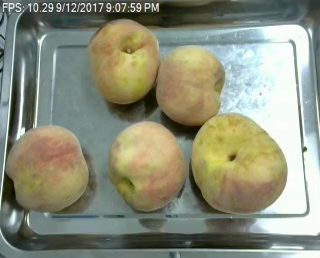Peach: (191, 111, 287, 214), (8, 124, 90, 213), (109, 120, 187, 210), (88, 17, 160, 105), (156, 43, 226, 126)
